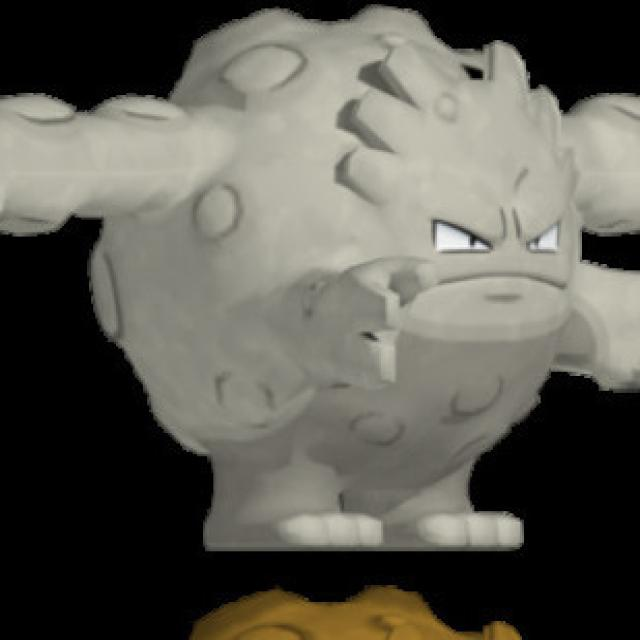Graveler: (3, 10, 640, 562)
